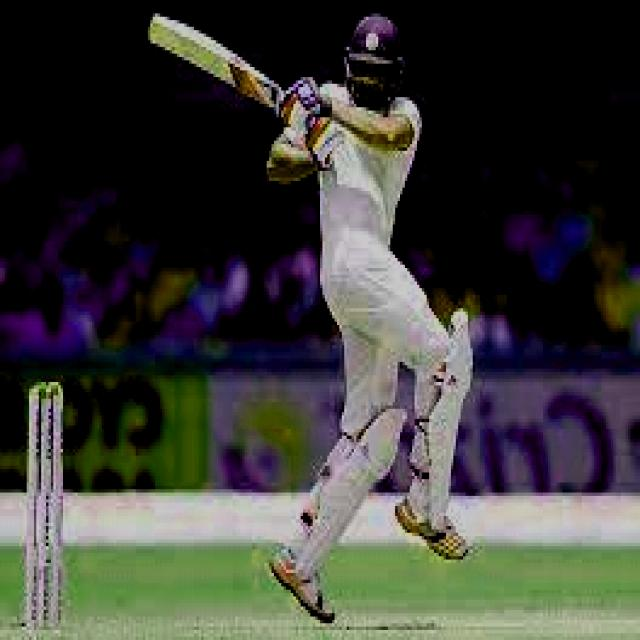toe: (145, 12, 163, 49)
